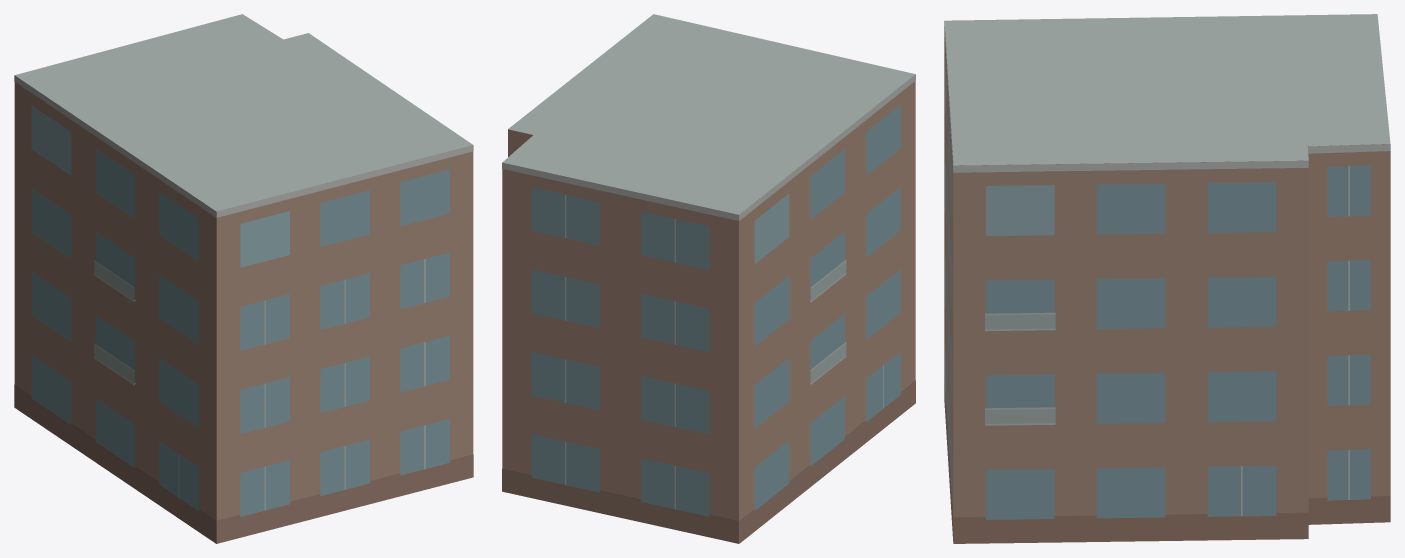
Rendered from survey-upis-32933634.glb.
3 views of the same model, side by side, from view 1: azimuth 30°, elevation 25°; view 2: azimuth 150°, elevation 25°; view 3: azimuth 270°, elevation 25° (orthographic). The views are drawn at different scales.
Visible parts, largest first — view 1: survey-upis-32933634.tmp; view 2: survey-upis-32933634.tmp; view 3: survey-upis-32933634.tmp.
Part boxes in pixels (x1=…): survey-upis-32933634.tmp: x1=14, y1=14, x2=473, y2=543; survey-upis-32933634.tmp: x1=502, y1=14, x2=915, y2=543; survey-upis-32933634.tmp: x1=944, y1=14, x2=1390, y2=543.
Bounding box in the file's own units: 11.01 × 12.8 × 13.69.
